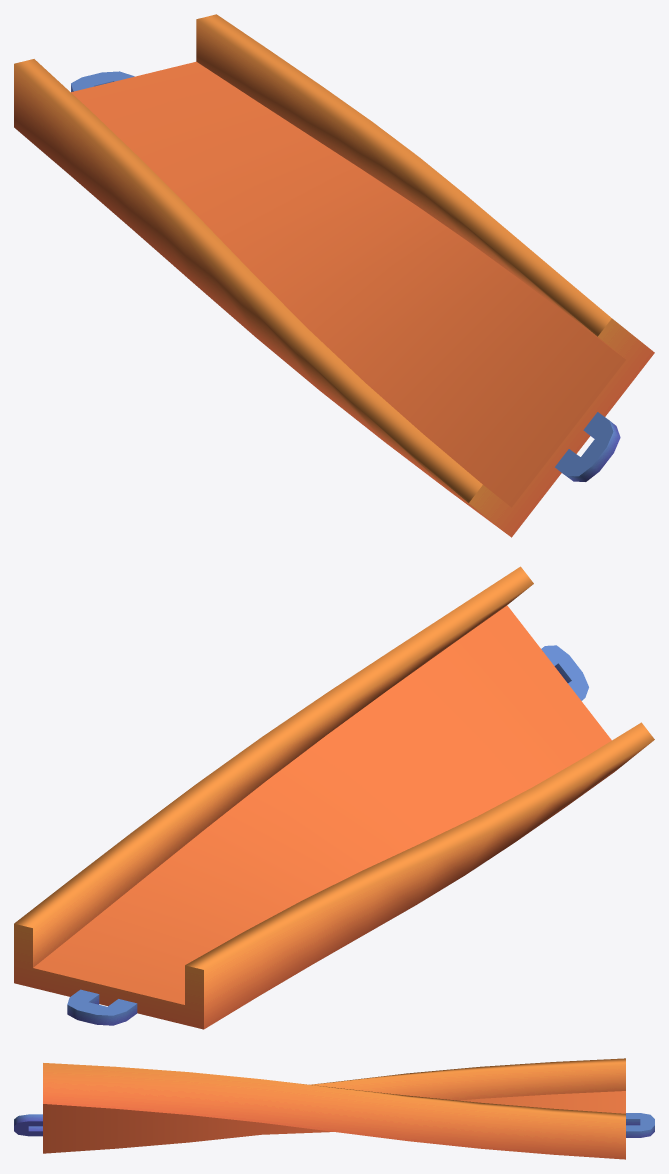
File: track-narrow-straight-skew-right.glb
3 renders of one model, top to bottom at view 1: azimuth 30°, elevation 25°; view 2: azimuth 150°, elevation 25°; view 3: azimuth 270°, elevation 25°, orthographic. The views are drawn at different scales.
Parts seen in each view (by area): view 1: track-narrow-straight-skew-right; view 2: track-narrow-straight-skew-right; view 3: track-narrow-straight-skew-right.
Part boxes in pixels (x1=…): track-narrow-straight-skew-right: x1=14, y1=14, x2=654, y2=537; track-narrow-straight-skew-right: x1=14, y1=566, x2=654, y2=1029; track-narrow-straight-skew-right: x1=14, y1=1058, x2=654, y2=1159.
Size of the model in its own units: 3.25 by 2.76 by 13.2.
1 material, 1 textured.
